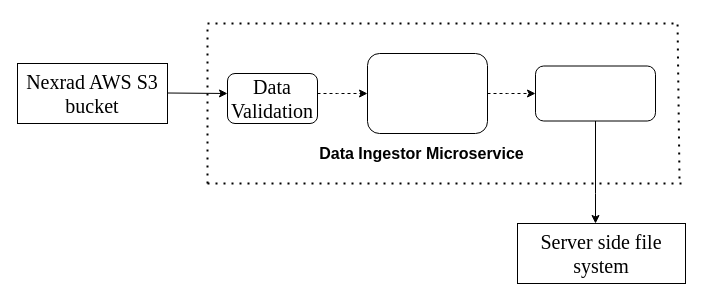
The diagram is 707 pixels wide and 301 high, and some of its shapes have lost their labels. Here are the shapes that lost their labels. From the top down, the box of each, then its label:
(366, 52, 488, 134): Download desired data files
(534, 65, 656, 121): Plot Data
